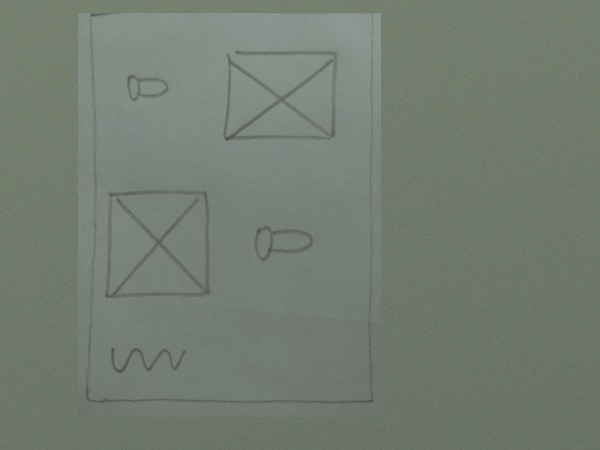image: (100, 182, 218, 304), (218, 44, 340, 148)
switch: (248, 221, 319, 266), (119, 70, 170, 103)
text: (104, 341, 188, 378)
